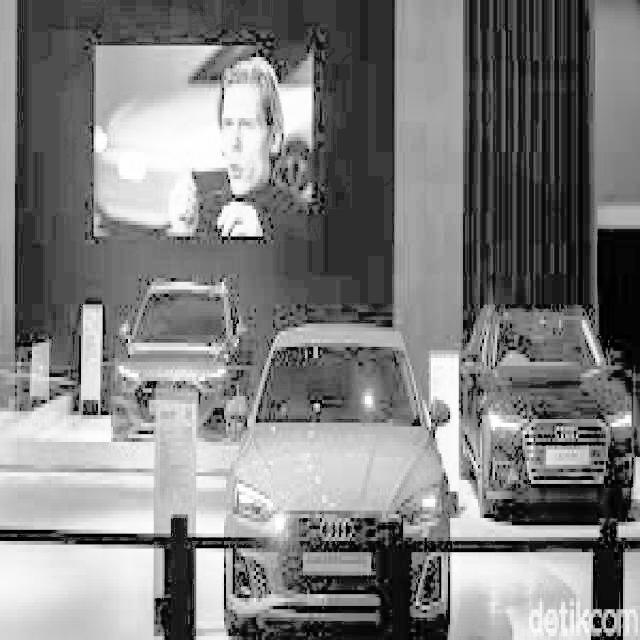Car: (223, 327, 455, 637)
